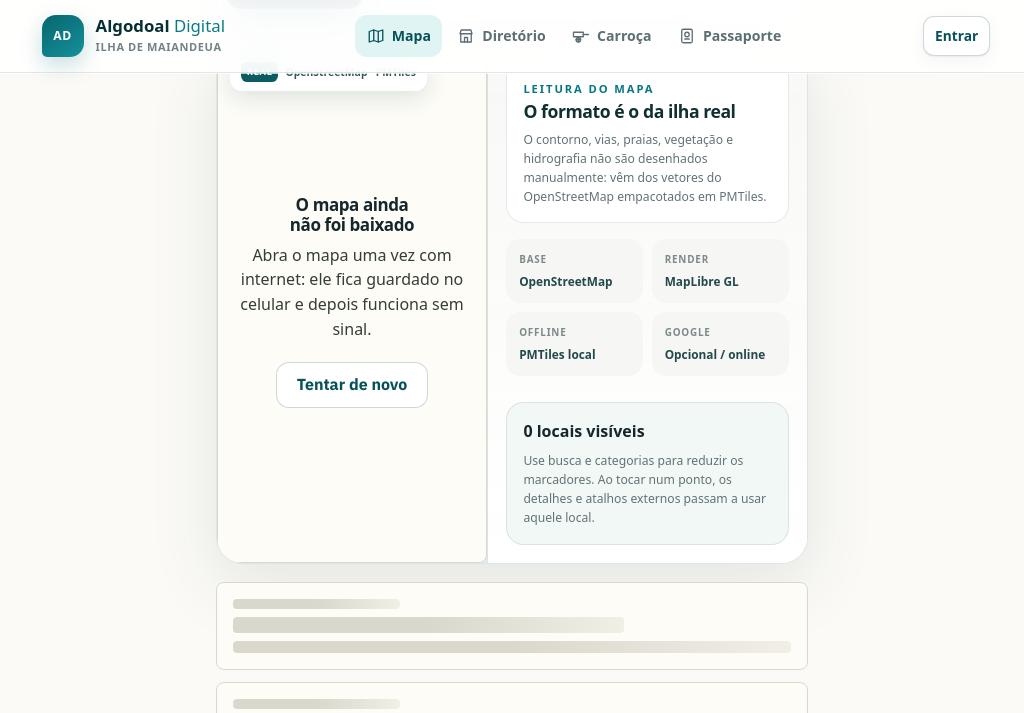
Scenario: mapa › sem o arquivo (primeiro acesso sem rede) explica e deixa tentar de novo
This screenshot has width=1024, height=713.
(page scrolled)
Expected: the heading "O mapa ainda não foi baixado" is shown, [290,193,414,236]
Expected: the text "Abra o mapa uma vez com internet" is shown, [240,244,464,340]
Click the button "Tentar de novo" at (352, 385), box [276,362,428,408]
(page scrolled)
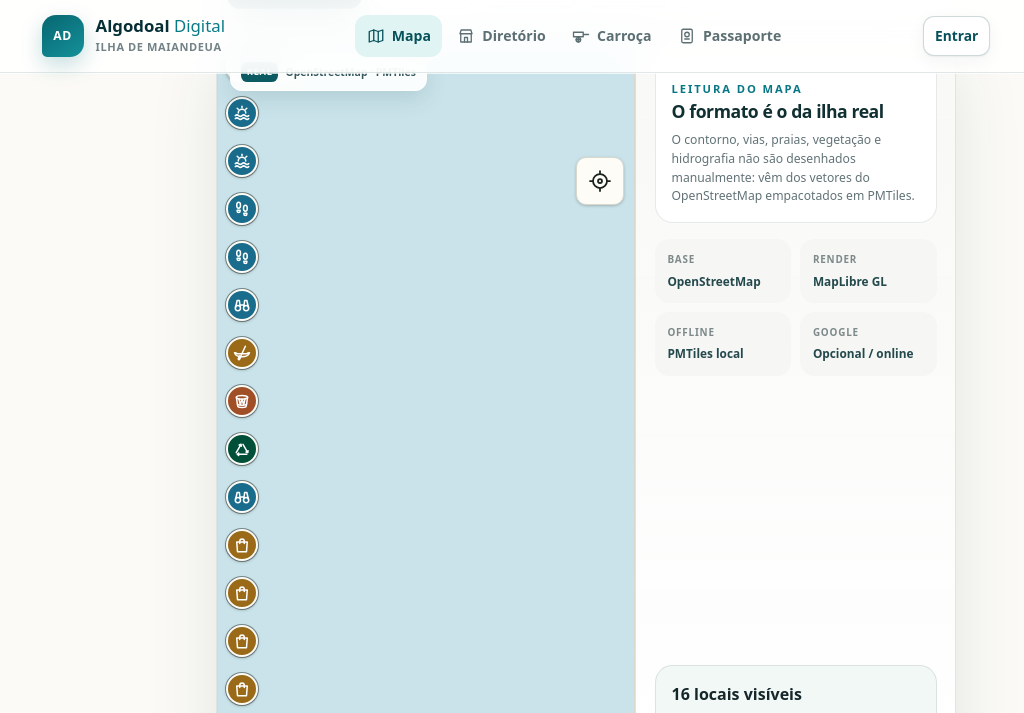
Now the heading "O mapa ainda não foi baixado" is gone
